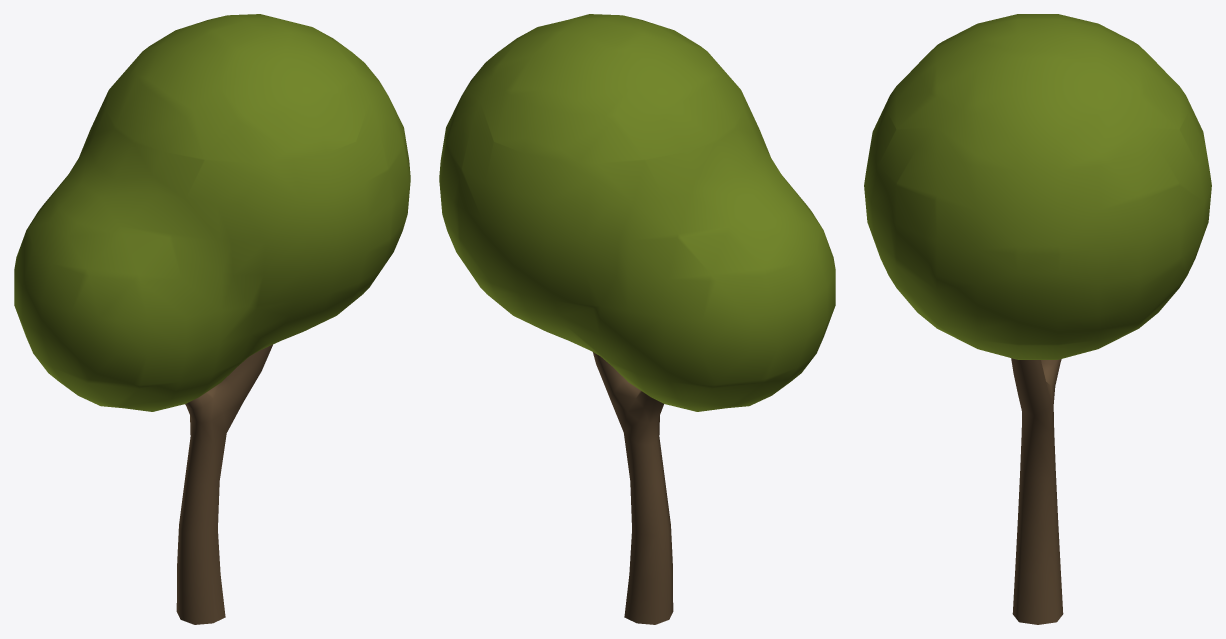
File: Tree.glb
3 views of the same model, side by side, from view 1: azimuth 30°, elevation 25°; view 2: azimuth 150°, elevation 25°; view 3: azimuth 270°, elevation 25° (orthographic). The views are drawn at different scales.
Visible parts, largest first — view 1: Tree; view 2: Tree; view 3: Tree.
Part boxes in pixels (x1,y1,x2,y2): Tree: (14, 14, 410, 624); Tree: (439, 14, 835, 624); Tree: (864, 14, 1211, 624).
Size of the model in its own units: 3.3 by 5.08 by 2.63.
